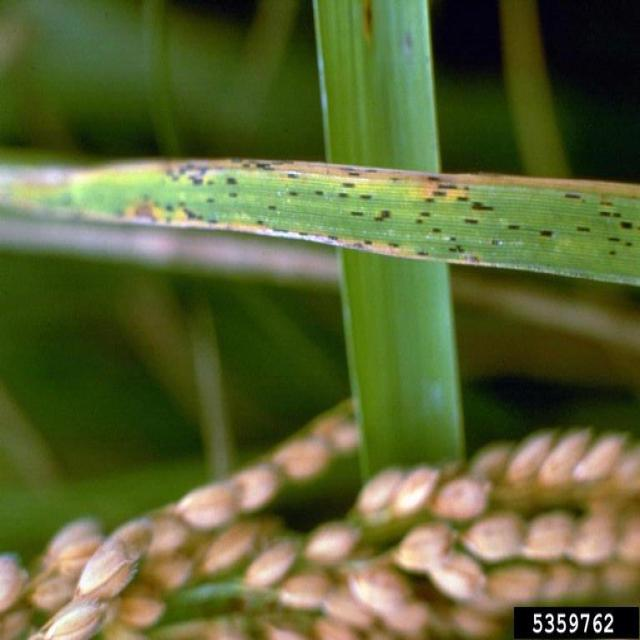Brown spot: (110, 157, 640, 290)
